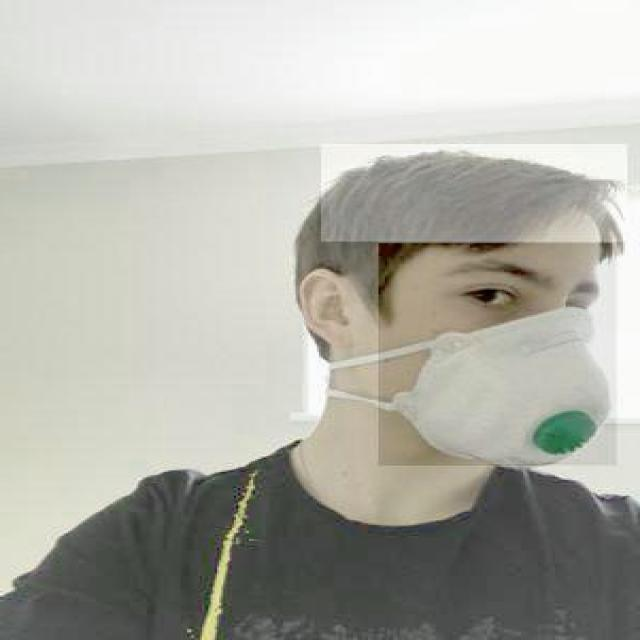face_mask: (376, 243, 617, 467)
head_nohelmet: (319, 144, 627, 243)
